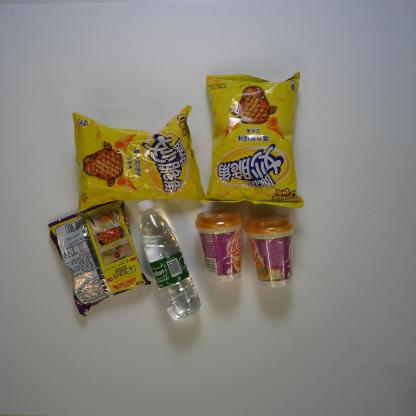Drink: (134, 196, 201, 322)
Instant Drink: (244, 212, 295, 292), (193, 206, 242, 286)
Instant Noodles: (45, 198, 151, 320)
Puffed Food: (70, 102, 207, 214), (198, 72, 307, 210)
